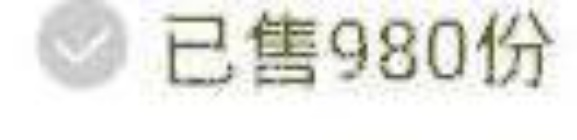CheckBox: (1, 1, 576, 139)
